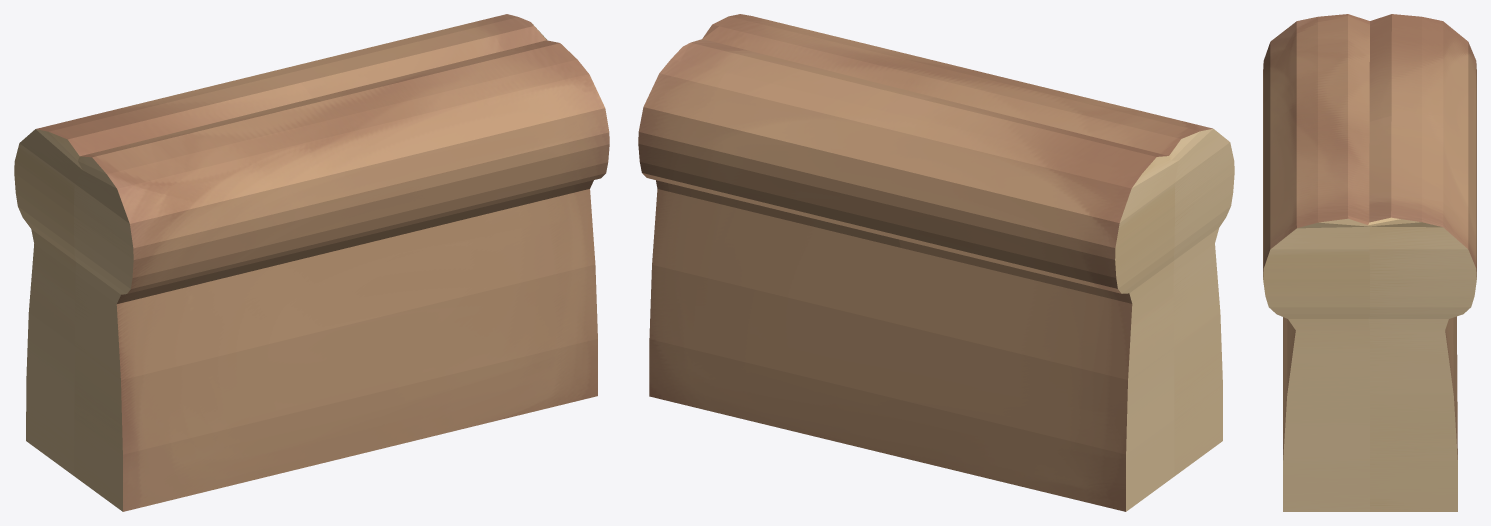
The model's file is Loaf of bread.fbx.
3 renders of one model, left to right at view 1: azimuth 30°, elevation 25°; view 2: azimuth 150°, elevation 25°; view 3: azimuth 270°, elevation 25°, orthographic. The views are drawn at different scales.
Visible parts, largest first — view 1: Loaf of bread.001; view 2: Loaf of bread.001; view 3: Loaf of bread.001.
Boxes of the visible parts, box(x1,y1,x2,y2) form: Loaf of bread.001: box(14, 14, 609, 511); Loaf of bread.001: box(638, 14, 1234, 511); Loaf of bread.001: box(1263, 14, 1476, 511).
Size of the model in its own units: 57.24 by 37.55 by 24.86.
